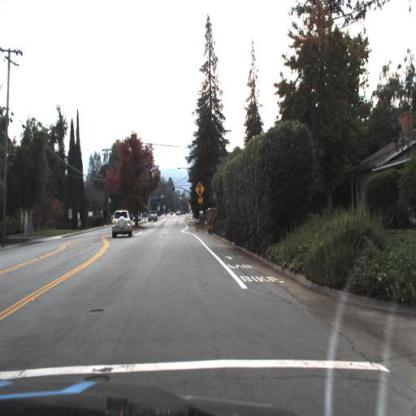car: (112, 210, 133, 237)
